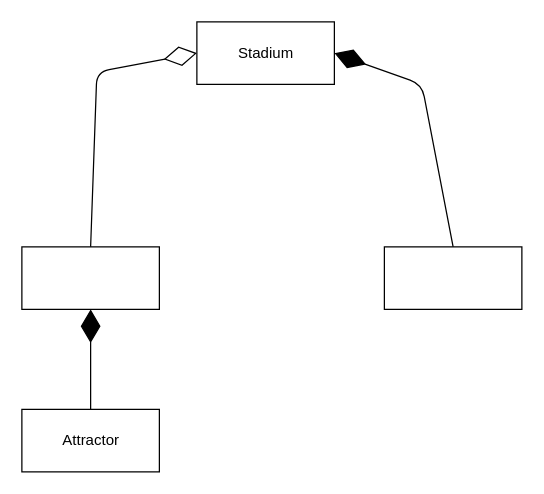
The diagram is 544 pixels wide and 494 high, and some of its shapes have lost their labels. The shapes that lost their labels are listed below. From the top down, each one's box as (x1, y1, x2, y2) in pixels, then its label:
(21, 246, 159, 309): Bench
(383, 246, 522, 309): Fan
